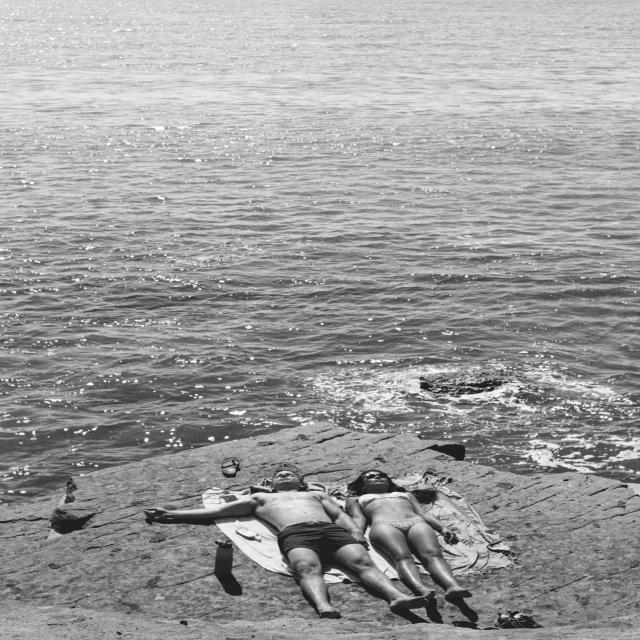lie: (250, 464, 366, 617), (344, 469, 444, 610)
